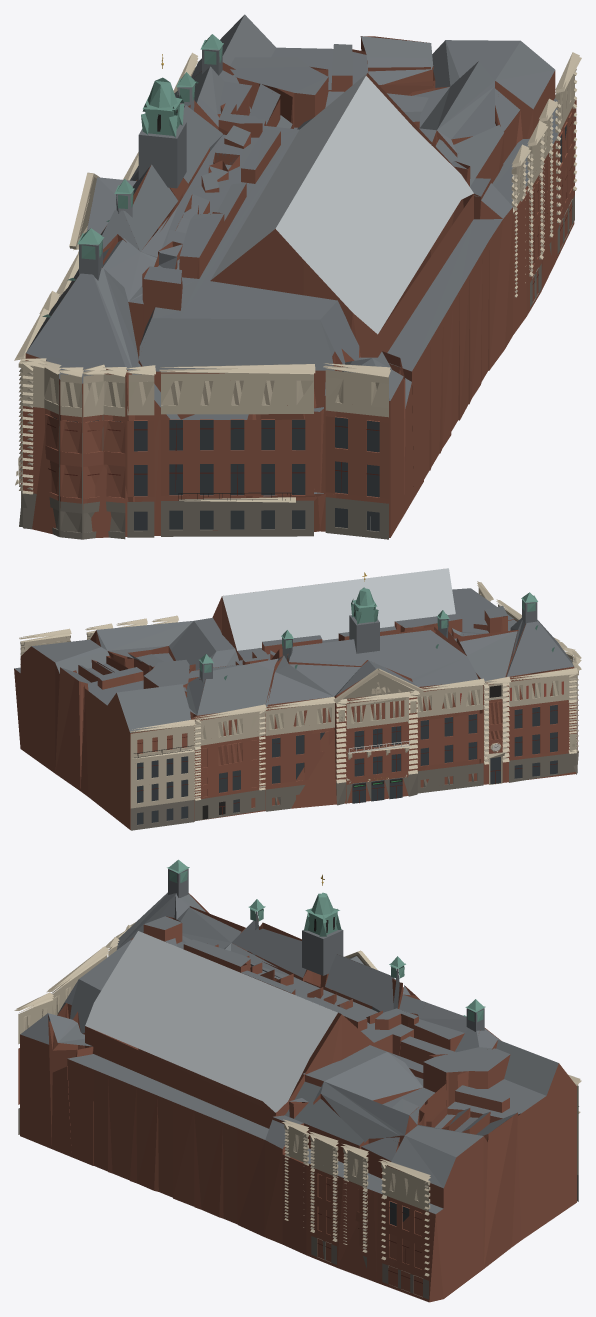
File: effectenbeurs.lod1.glb
The picture shows the model from 3 angles, top to bottom: view 1: azimuth 30°, elevation 25°; view 2: azimuth 150°, elevation 25°; view 3: azimuth 270°, elevation 25°; orthographic projection. The views are drawn at different scales.
Visible parts, largest first — view 1: effectenbeurs; view 2: effectenbeurs; view 3: effectenbeurs.
Boxes of the visible parts, box(x1,y1,x2,y2) form: effectenbeurs: box(14, 14, 581, 539); effectenbeurs: box(14, 568, 581, 830); effectenbeurs: box(14, 859, 581, 1302).
Bounding box in the file's own units: 94.55 × 41.8 × 85.09.
